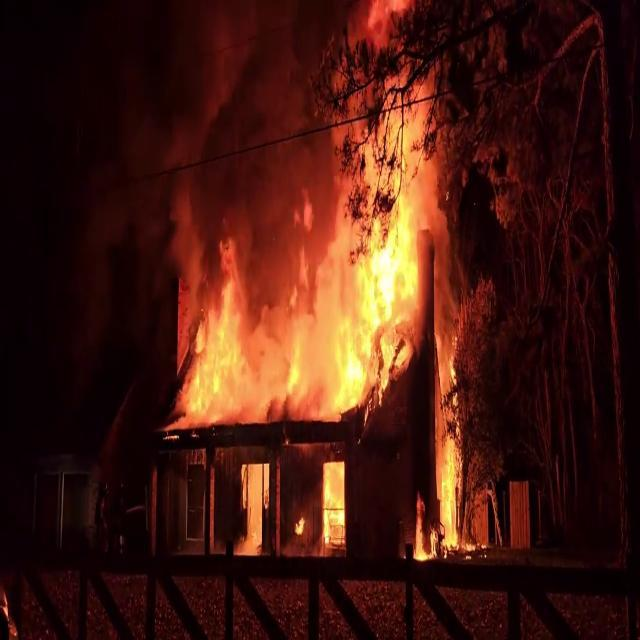Fire: (324, 129, 425, 414), (186, 242, 311, 423), (429, 457, 466, 552), (321, 464, 347, 548)
Smoke: (94, 0, 358, 309)
